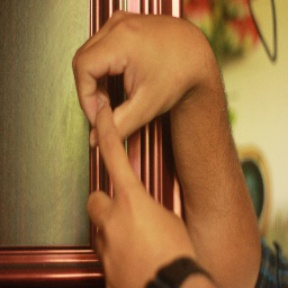Q: (67, 7, 216, 250)
